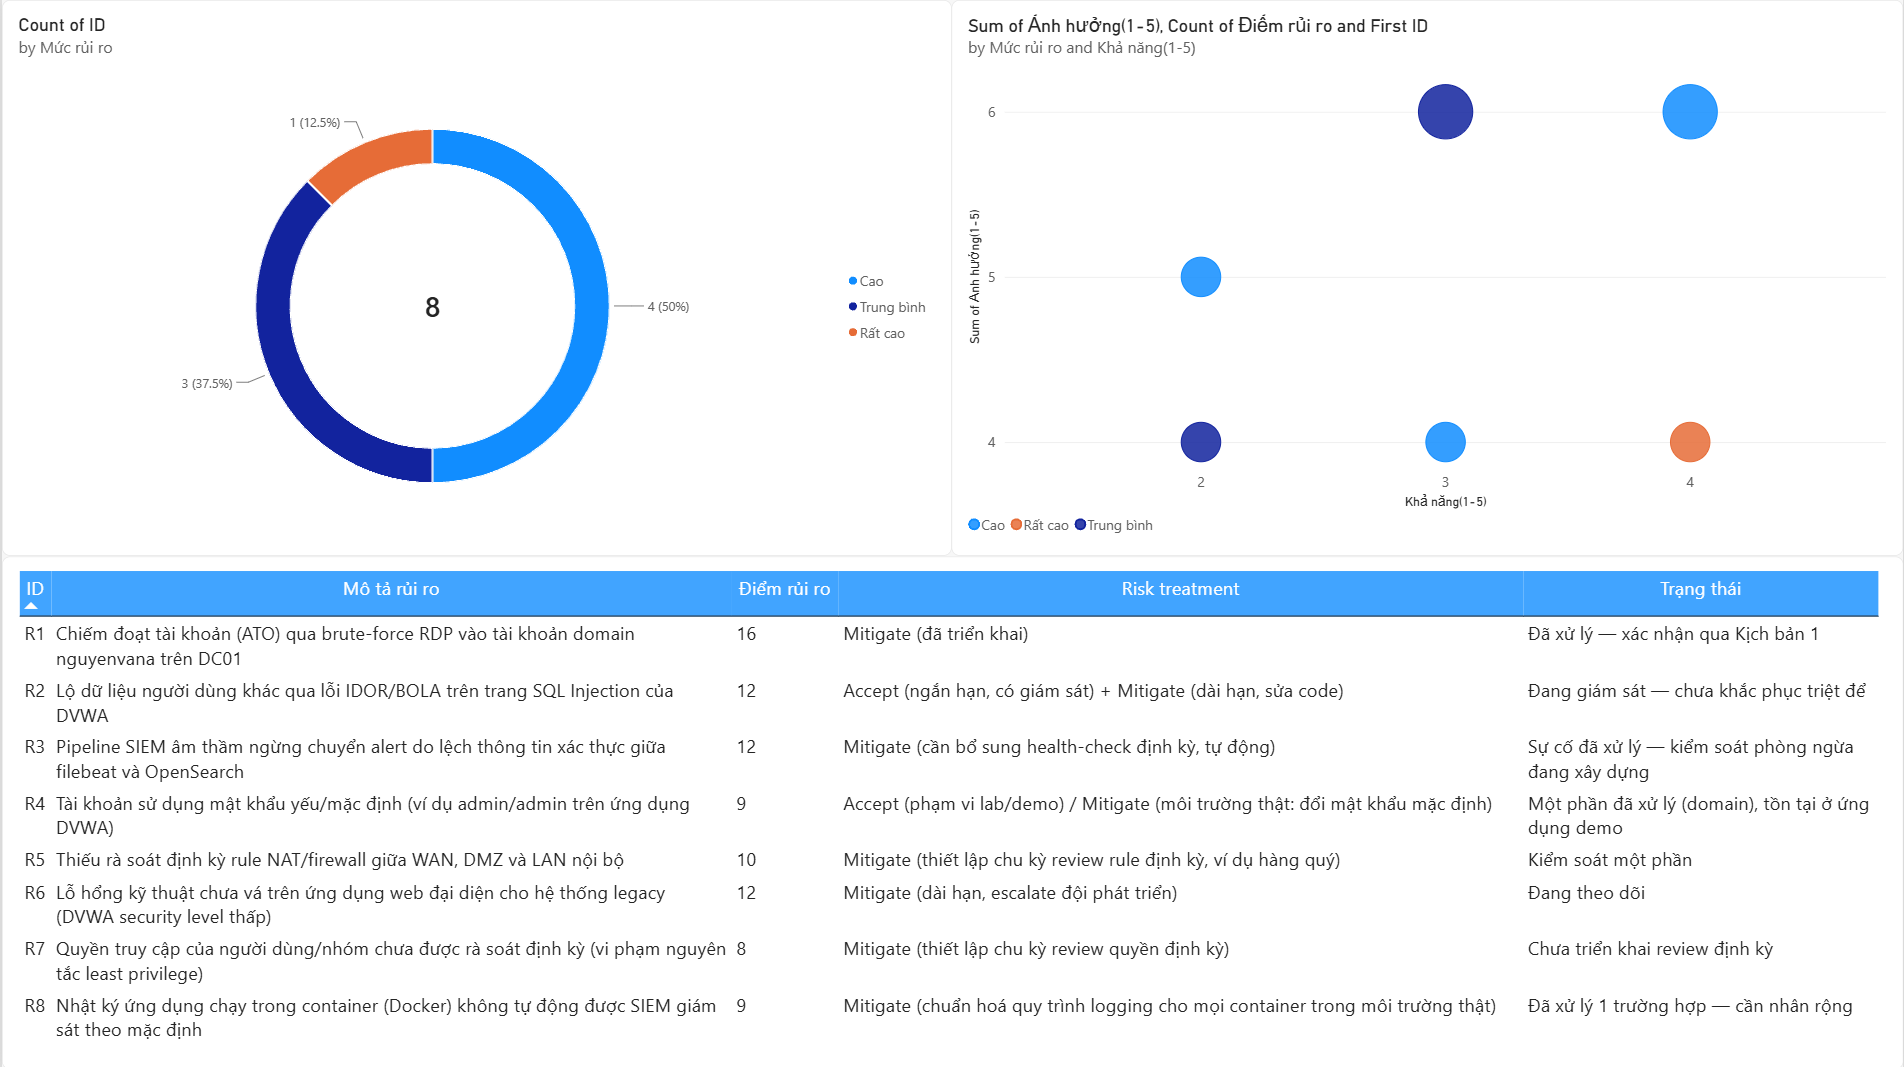

What the dashboard file says about the page in this screenshot:
{"tool":"powerbi","page":{"name":"Risk Register","canvas":[1920,1080],"ordinal":1},"visuals":[{"type":"donutChart","fields":{"Category":["Risk Register.Mức rủi ro"],"Y":["CountNonNull(Risk Register.ID)"]},"box":[0,0,959.4,561.4],"z":0},{"type":"scatterChart","fields":{"Series":["Risk Register.Mức rủi ro"],"Size":["CountNonNull(Risk Register.Điểm rủi ro)"],"X":["Risk Register.Khả năng(1-5)"],"Y":["Sum(Risk Register.Ảnh hưởng(1-5))"]},"box":[959.4,0,961.2,561.4],"z":1},{"type":"tableEx","fields":{"Values":["Risk Register.ID","Risk Register.Mô tả rủi ro","Risk Register.Điểm rủi ro","Risk Register.Risk treatment","Risk Register.Trạng thái"]},"box":[0,561.4,1920.6,518],"z":2}]}

Visuals, with their boxes in screenshot pixels (x1, y1, x2, y2), scaled from the page's 1920x1080 canvas onto the 1904x1067 screenshot:
donutChart - Risk Register.Mức rủi ro x CountNonNull(Risk Register.ID): detection(0, 0, 951, 555)
scatterChart - Risk Register.Mức rủi ro x CountNonNull(Risk Register.Điểm rủi ro): detection(951, 0, 1903, 555)
tableEx - Risk Register.ID x Risk Register.Mô tả rủi ro: detection(0, 555, 1903, 1066)
